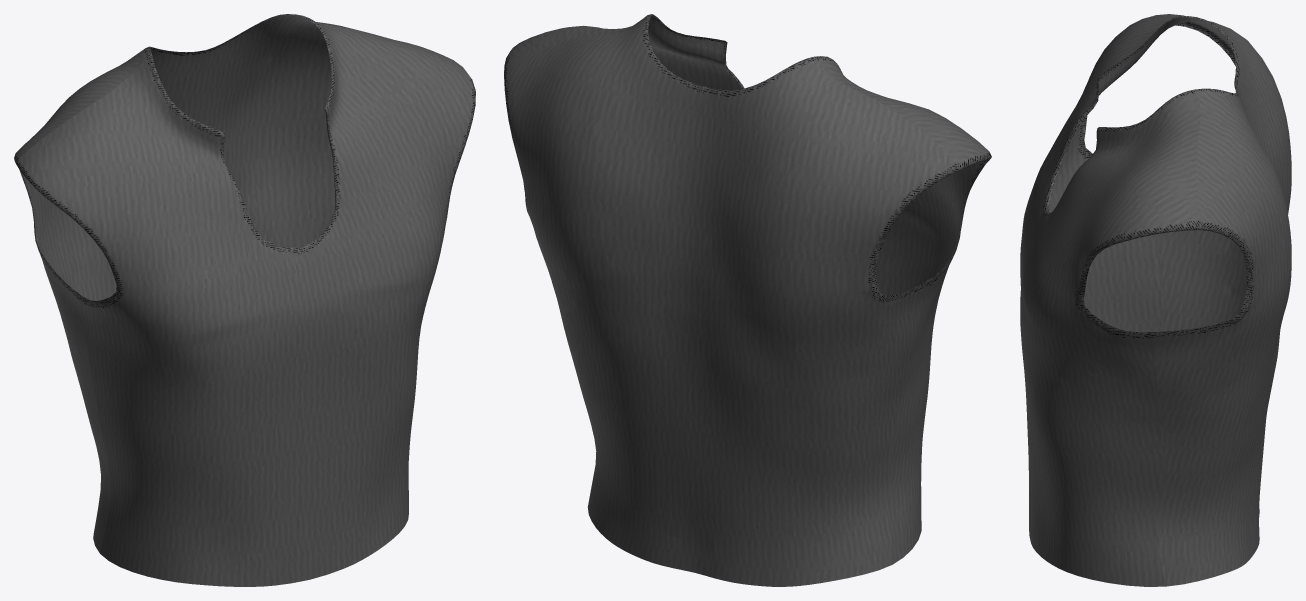
File: elvs-male-muscle-shirt1.glb
3 views of the same model, side by side, from view 1: azimuth 30°, elevation 25°; view 2: azimuth 150°, elevation 25°; view 3: azimuth 270°, elevation 25° (orthographic). The views are drawn at different scales.
Visible parts, largest first — view 1: male muscle shirt; view 2: male muscle shirt; view 3: male muscle shirt.
Part boxes in pixels (bbox=[...]): male muscle shirt: bbox=[14, 14, 475, 586]; male muscle shirt: bbox=[504, 14, 991, 586]; male muscle shirt: bbox=[1020, 14, 1291, 586].
Size of the model in its own units: 44.77 by 47.09 by 24.41.
1 material, 1 textured.
